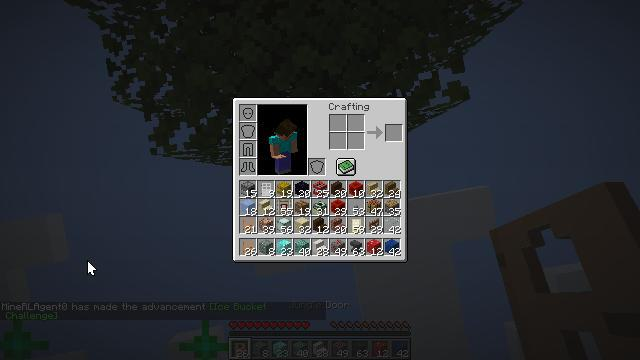cursor: (87, 260, 97, 276)
